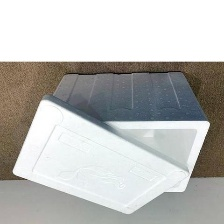foam_box: (9, 67, 214, 219), (9, 91, 193, 218)
